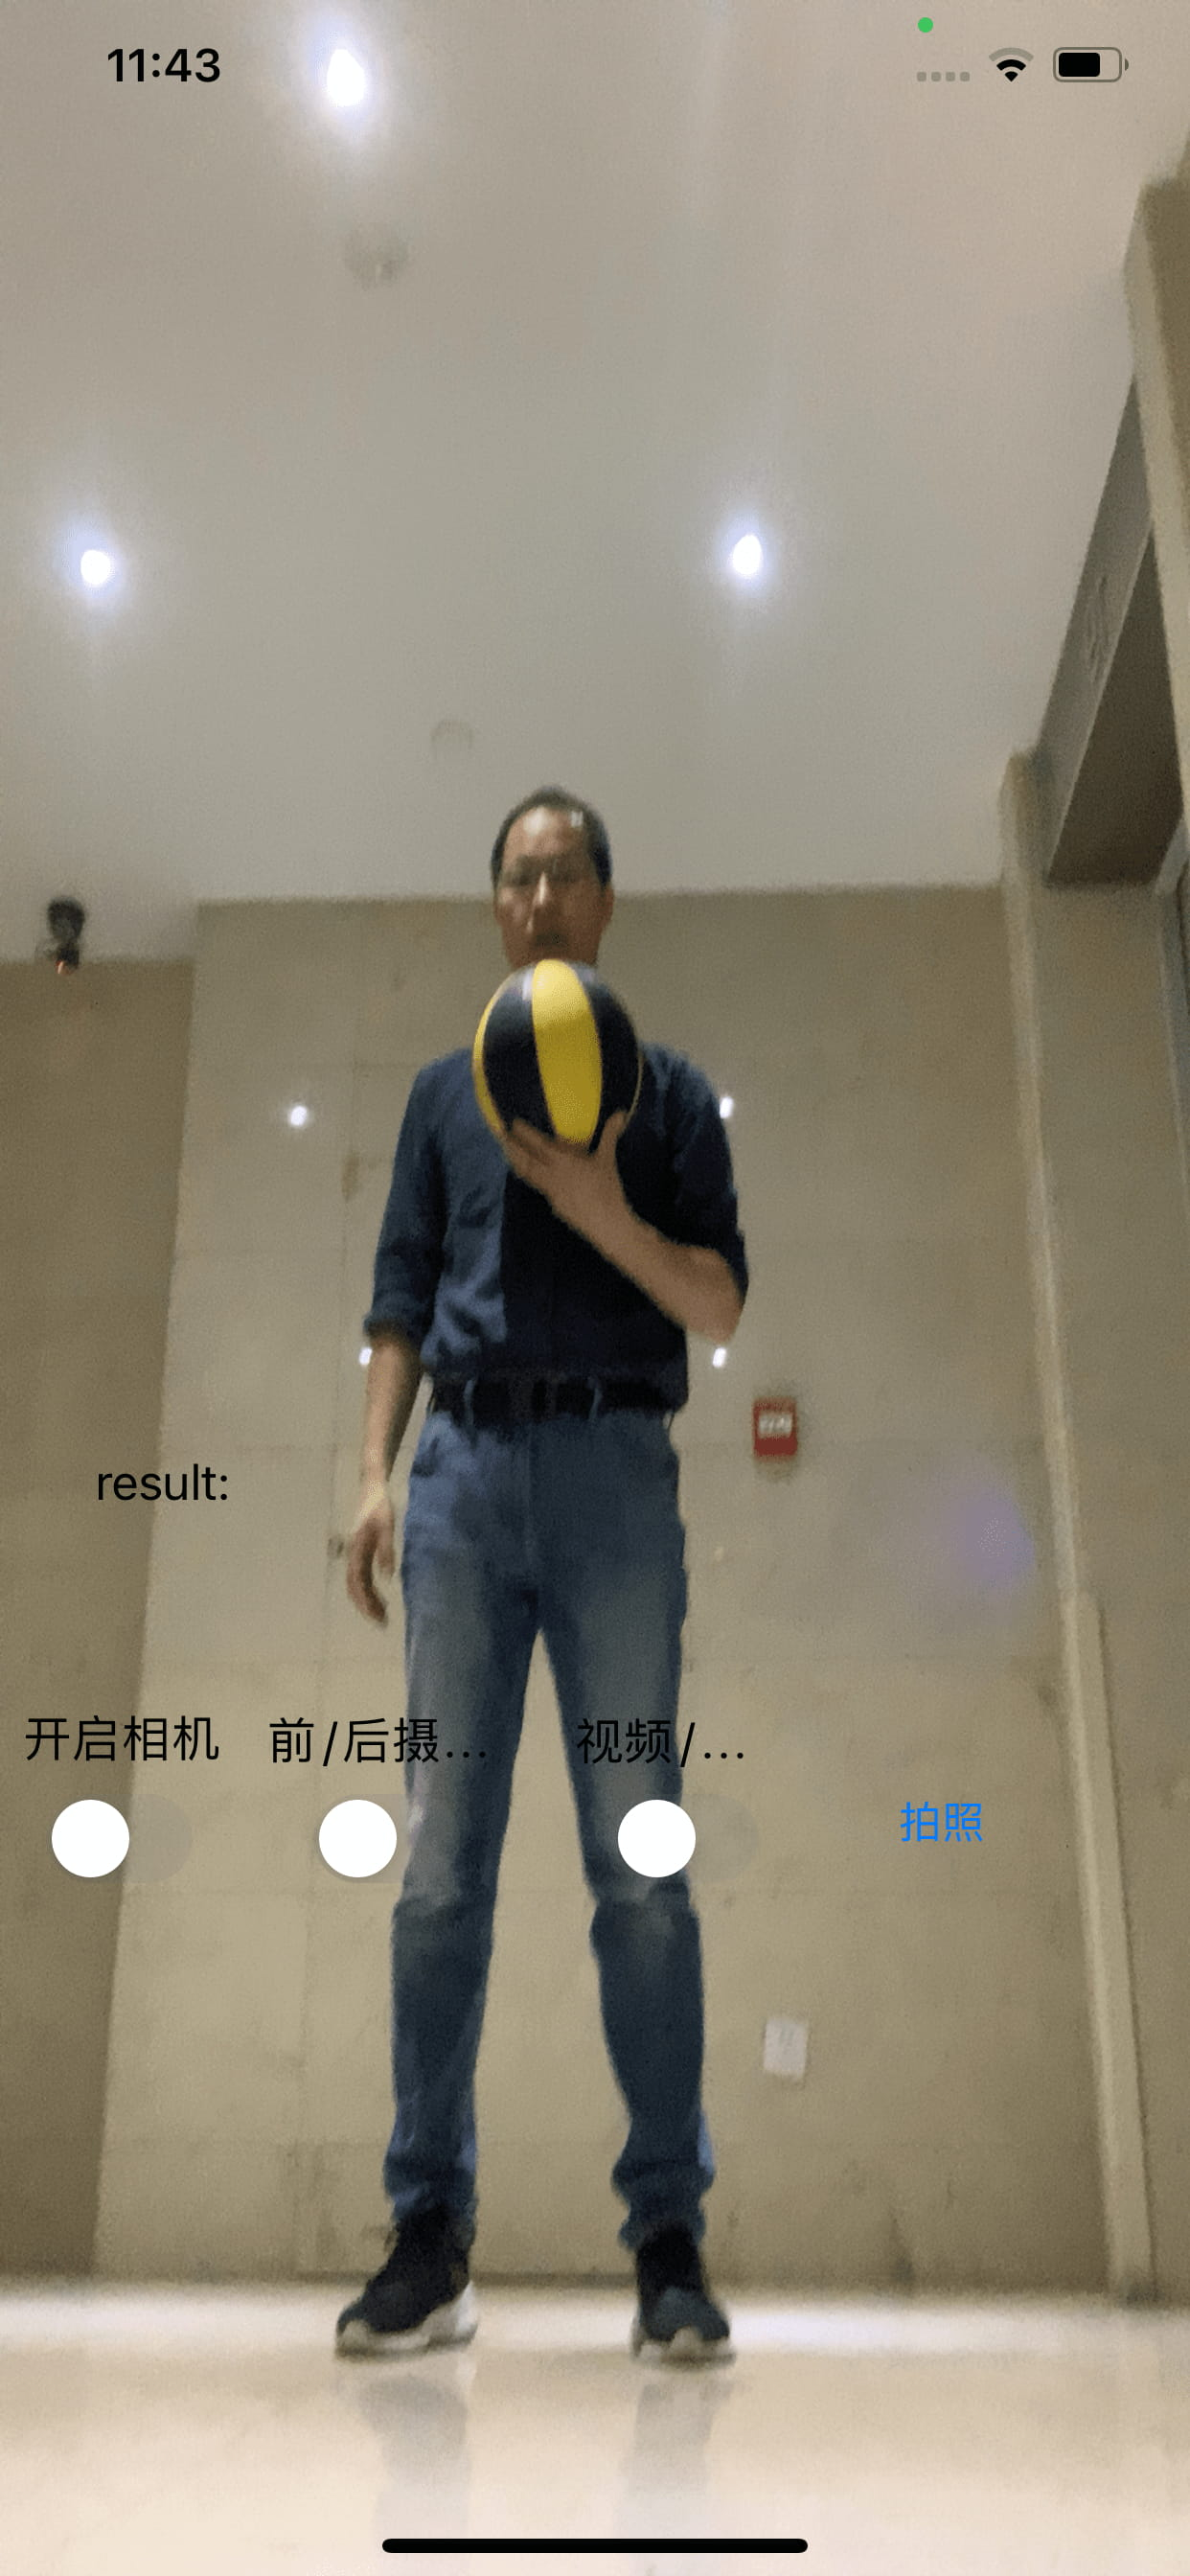ball: (472, 961, 641, 1161)
